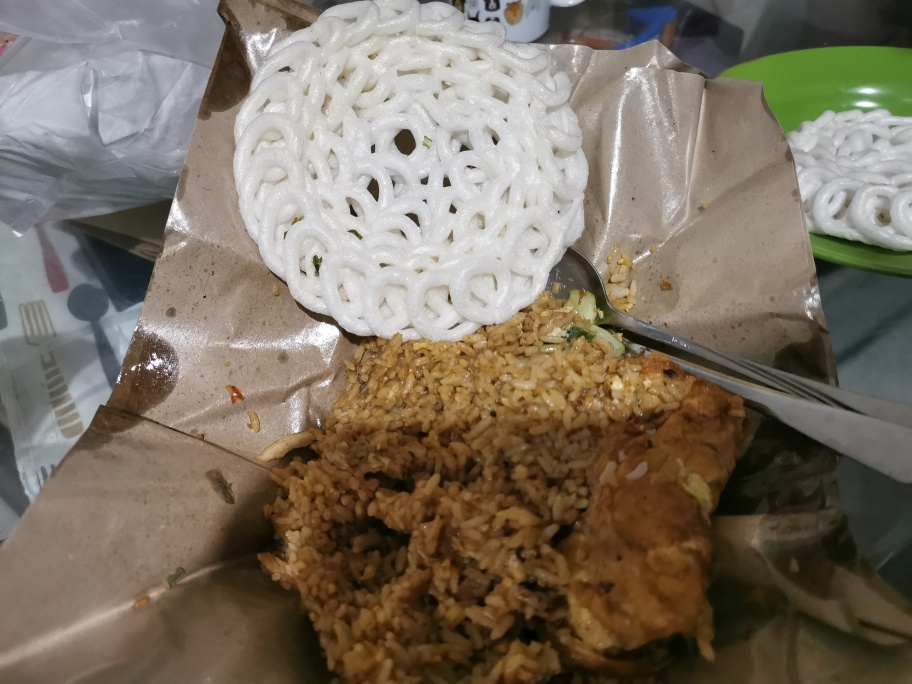kerupuk: (226, 1, 588, 341)
nasi goreng: (264, 341, 730, 684)
